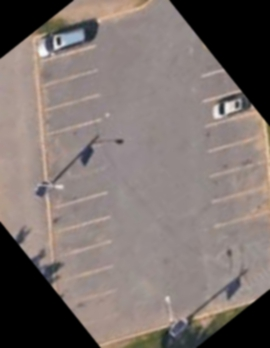parkingspot: (30, 16, 128, 348), (190, 47, 270, 233)
